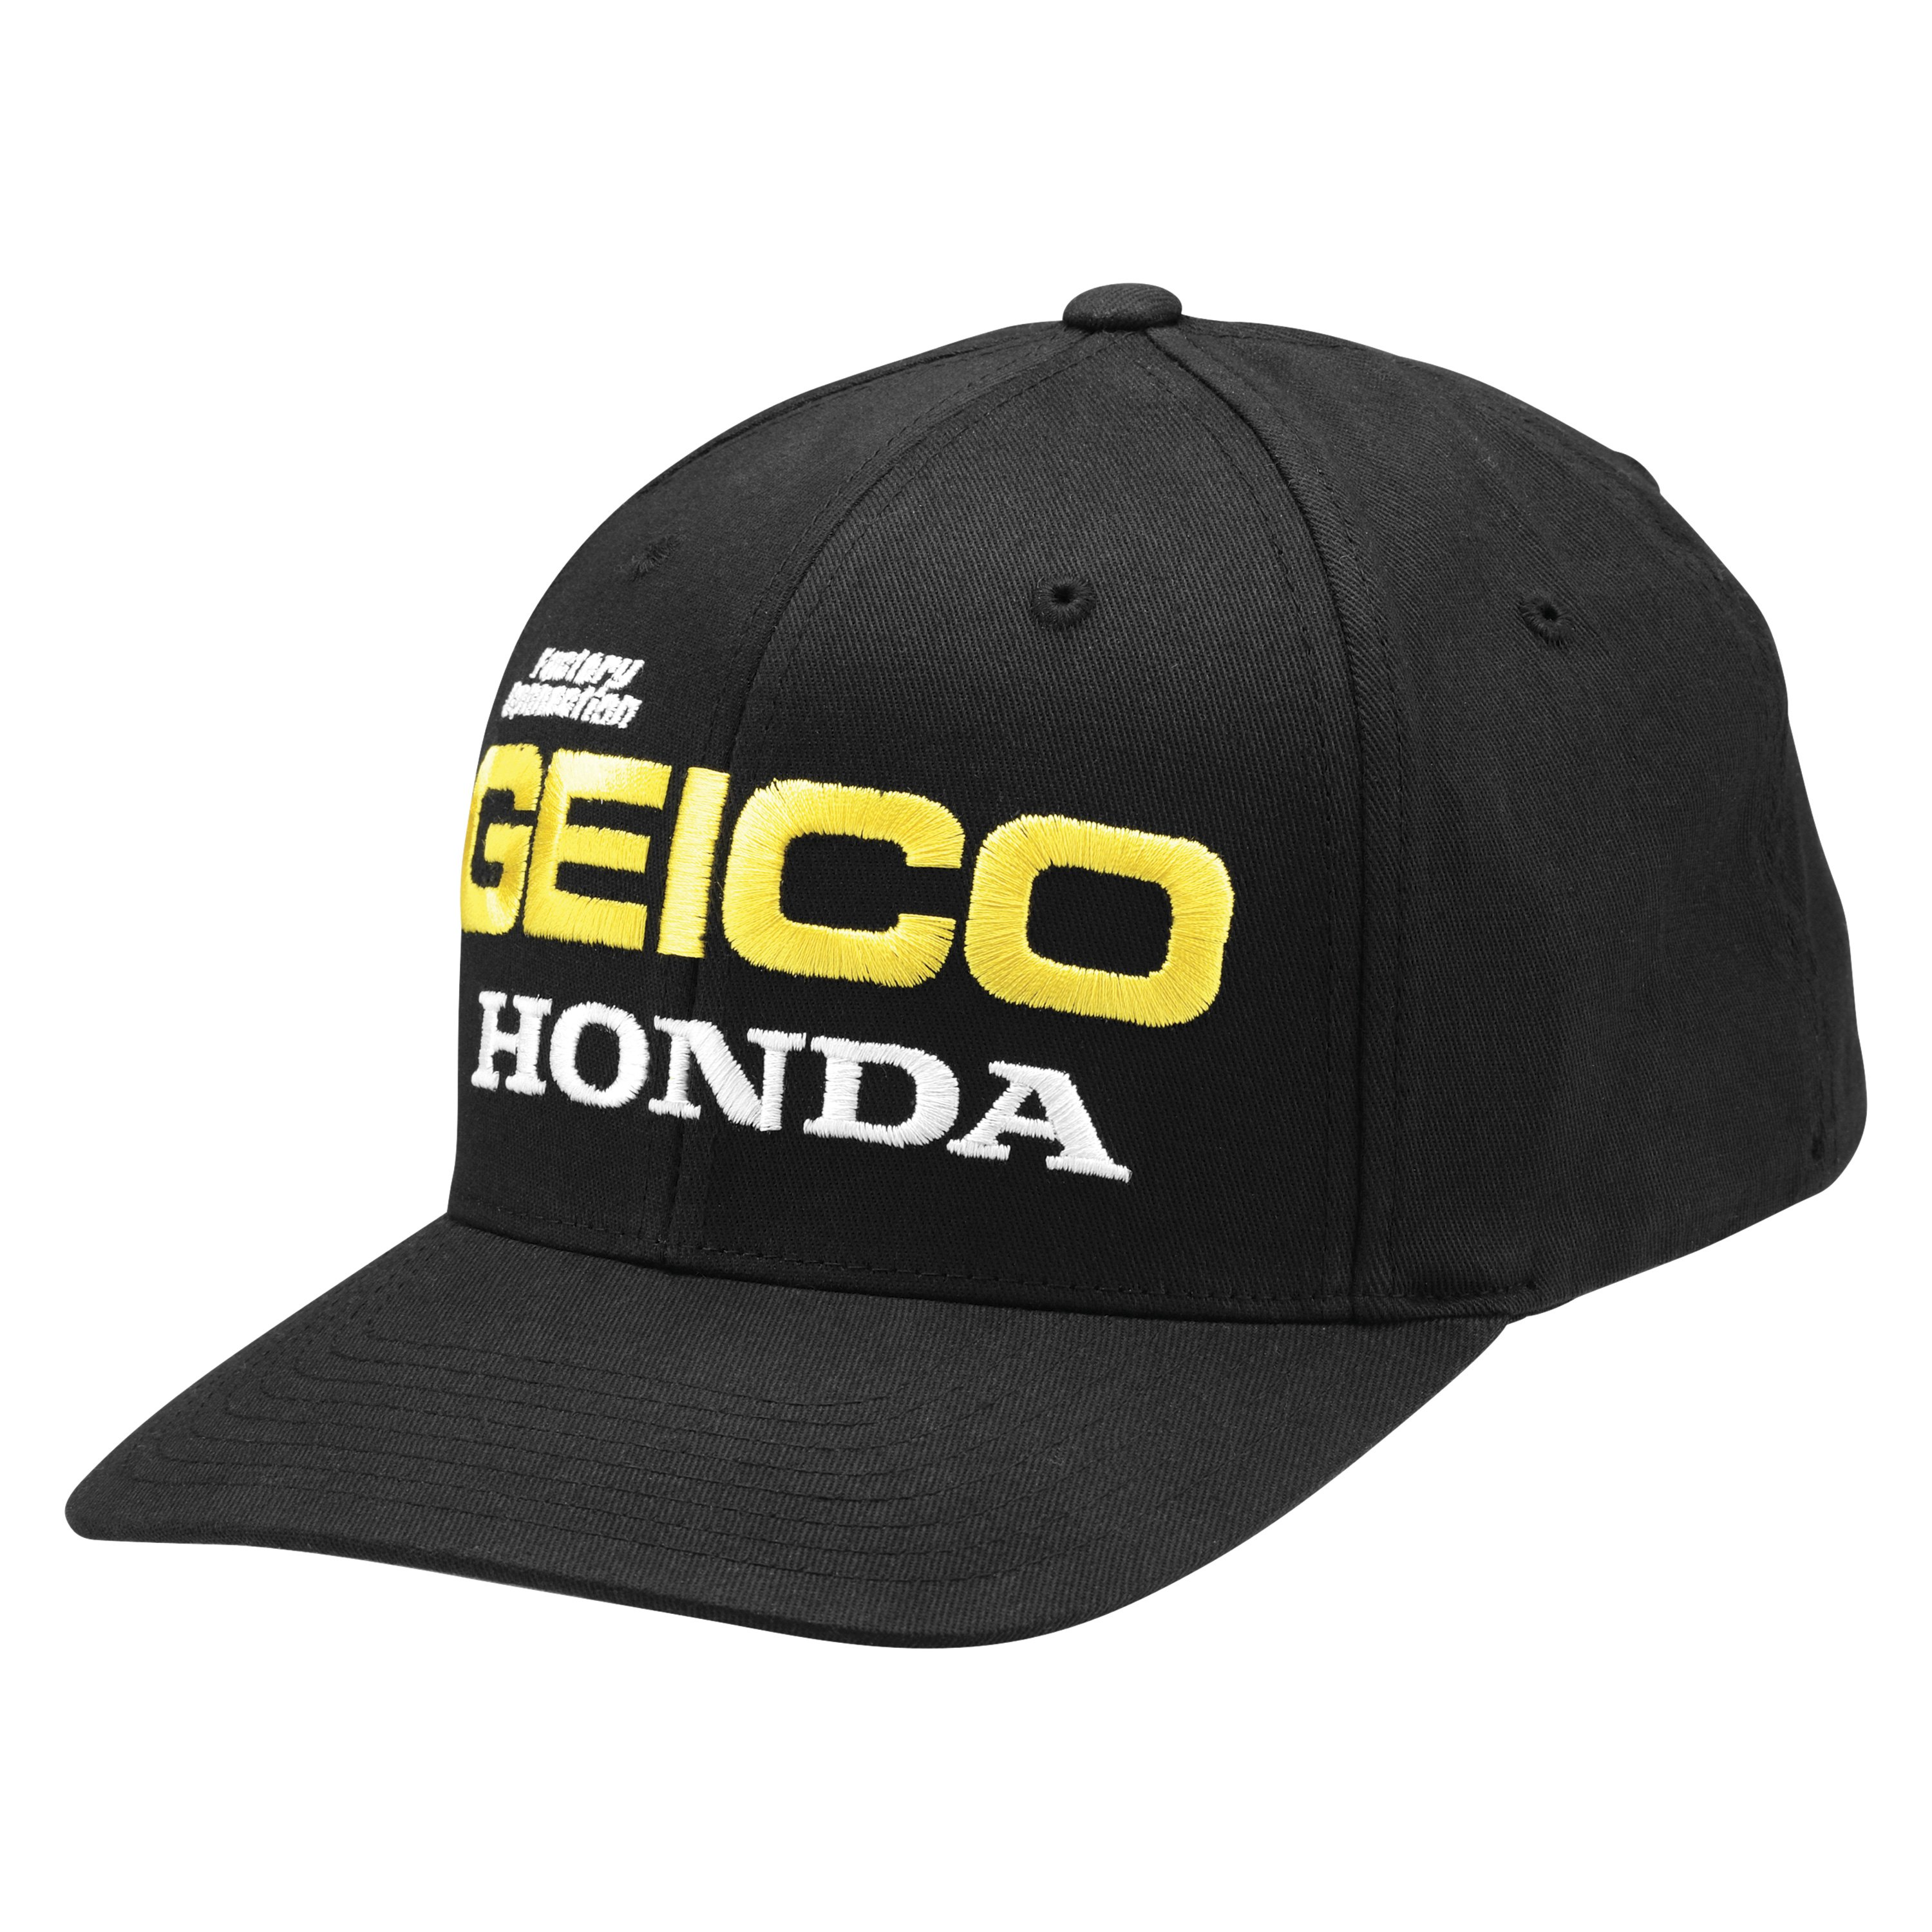Geico: (446, 725, 1290, 1028)
